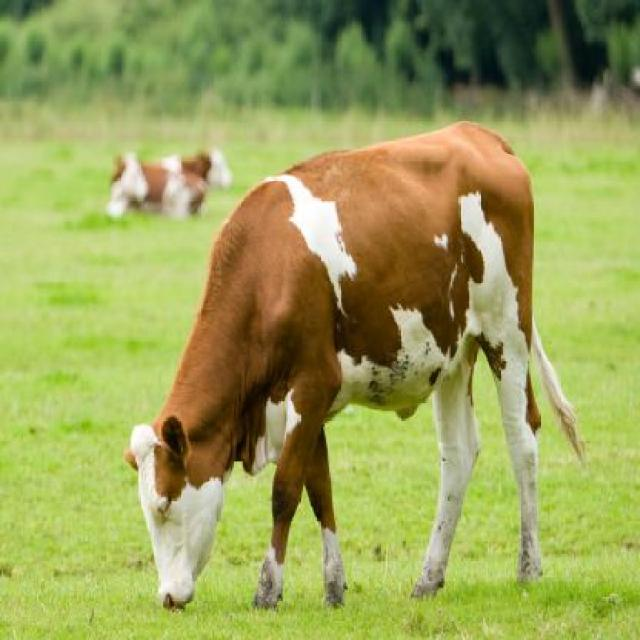Cow: (117, 112, 592, 617), (104, 136, 238, 232)
